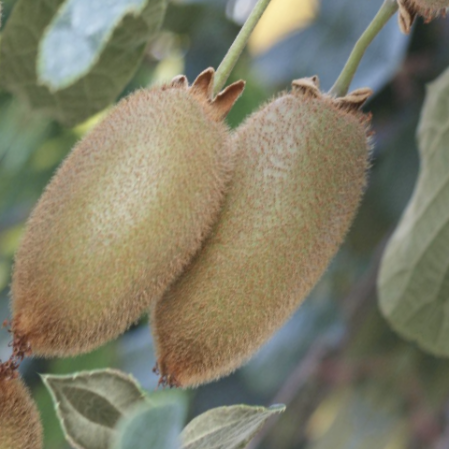kiwi: (94, 44, 426, 432), (0, 16, 291, 412)
